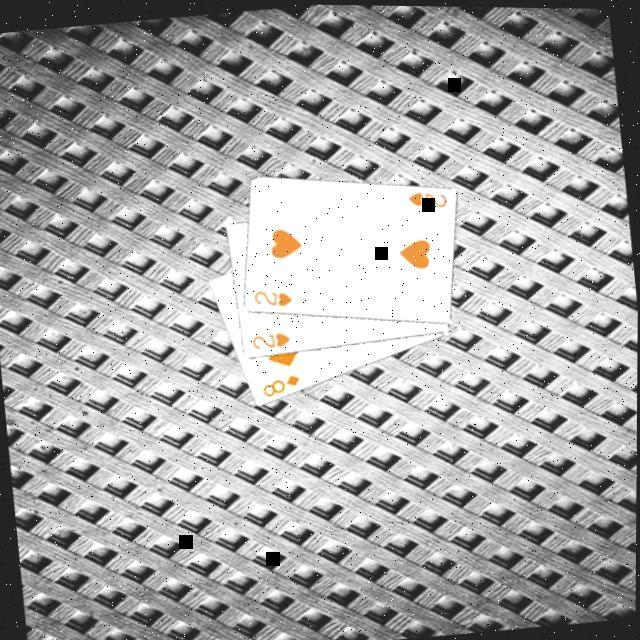2H: (252, 281, 298, 309), (406, 182, 452, 210), (248, 324, 296, 350)
8D: (260, 368, 306, 398)
